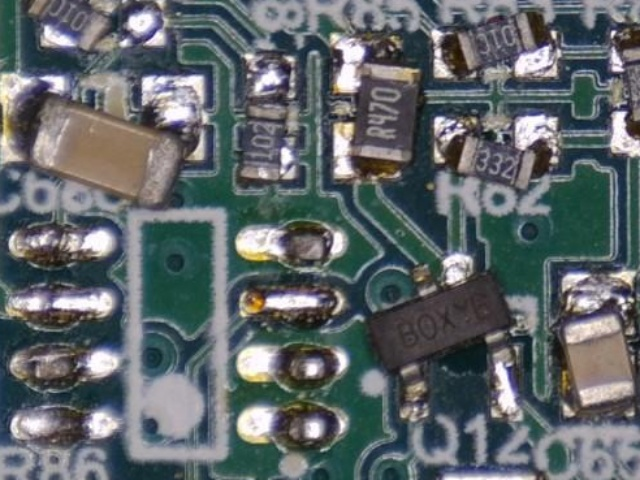pcb_defect: (0, 72, 207, 212), (365, 255, 525, 422), (327, 32, 424, 185), (553, 269, 640, 421), (432, 113, 563, 193), (431, 10, 562, 81), (237, 53, 300, 183), (24, 0, 169, 55), (608, 28, 640, 155), (640, 233, 640, 421)
